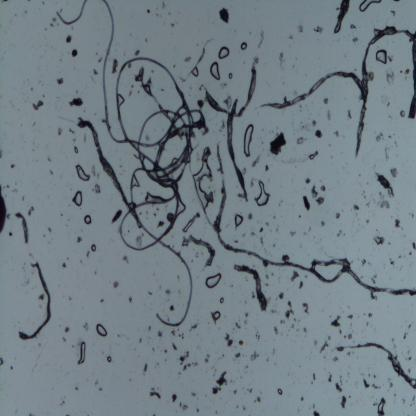Air bubble: (193, 144, 214, 209), (254, 180, 272, 208), (182, 212, 202, 233), (206, 271, 222, 291), (244, 124, 254, 155), (74, 164, 91, 182), (358, 0, 383, 12), (76, 341, 87, 366), (210, 61, 222, 81), (376, 397, 388, 415), (375, 49, 388, 65), (72, 191, 83, 209), (94, 323, 108, 337), (218, 45, 231, 59), (145, 192, 163, 202), (233, 214, 244, 228), (179, 195, 186, 216), (308, 150, 320, 162), (132, 175, 140, 189), (83, 214, 92, 226), (118, 93, 125, 108), (90, 242, 98, 254), (193, 69, 201, 79), (241, 41, 249, 51), (214, 310, 221, 320), (276, 389, 284, 397), (106, 355, 112, 363), (228, 72, 234, 80), (219, 297, 225, 304), (74, 147, 78, 155)
Background material: (374, 170, 396, 199), (268, 130, 287, 157), (109, 208, 122, 226), (216, 370, 228, 389), (386, 68, 398, 86), (180, 350, 192, 368), (224, 330, 234, 350), (219, 7, 230, 24), (297, 120, 311, 133), (378, 94, 391, 108), (258, 29, 266, 51), (285, 301, 295, 318), (148, 387, 162, 399), (372, 234, 386, 246), (69, 97, 84, 108), (32, 99, 45, 111), (279, 49, 286, 71), (302, 194, 310, 212), (330, 316, 342, 328), (171, 328, 184, 339), (310, 184, 319, 199), (313, 24, 325, 35), (314, 128, 325, 140), (249, 349, 258, 363), (315, 196, 326, 207), (290, 271, 300, 283), (183, 362, 198, 370), (363, 376, 371, 391), (111, 58, 118, 75), (385, 375, 394, 388), (252, 155, 261, 168), (302, 302, 310, 316), (179, 400, 189, 411), (390, 166, 399, 178), (375, 131, 384, 143), (340, 395, 347, 410), (135, 235, 143, 248), (381, 200, 391, 210), (55, 76, 65, 86), (181, 238, 190, 249), (320, 342, 329, 353), (296, 23, 304, 35), (282, 252, 290, 264), (121, 255, 130, 265), (233, 322, 242, 332), (189, 323, 199, 332), (254, 331, 262, 342), (94, 184, 102, 195), (370, 383, 382, 390), (394, 218, 401, 230), (296, 136, 305, 145), (370, 276, 378, 286), (387, 55, 397, 63), (278, 291, 286, 301), (326, 108, 332, 121), (272, 325, 279, 336), (336, 383, 343, 394), (37, 292, 45, 301), (142, 362, 148, 374), (404, 68, 410, 80), (196, 99, 204, 108), (91, 166, 97, 178), (352, 204, 361, 212), (338, 373, 344, 385), (242, 365, 250, 374), (157, 219, 165, 228), (246, 212, 254, 221), (411, 240, 416, 254), (384, 148, 389, 162), (65, 34, 72, 44), (204, 353, 211, 363), (172, 343, 179, 353), (157, 330, 164, 340), (68, 125, 75, 135), (298, 279, 304, 290), (390, 339, 396, 350), (346, 109, 352, 120), (403, 329, 409, 340), (66, 294, 74, 302), (134, 48, 142, 56), (234, 352, 242, 360), (370, 292, 378, 300), (255, 396, 263, 404), (360, 257, 367, 266), (6, 211, 13, 220), (269, 308, 278, 315), (76, 235, 83, 244), (169, 304, 175, 314), (346, 314, 356, 320), (334, 129, 340, 139), (400, 108, 406, 118), (336, 230, 343, 238), (350, 23, 358, 30), (320, 184, 327, 192), (164, 289, 172, 296), (92, 68, 100, 75), (332, 355, 339, 363), (82, 130, 86, 144), (287, 34, 294, 42), (290, 230, 298, 237), (238, 339, 245, 347), (318, 219, 326, 226), (64, 325, 71, 333), (245, 386, 252, 394), (31, 119, 38, 127), (171, 394, 178, 402), (260, 235, 265, 246), (28, 207, 34, 216), (83, 323, 89, 332), (213, 364, 217, 377), (327, 374, 332, 384), (298, 101, 303, 111), (212, 388, 219, 395), (176, 288, 182, 296), (126, 89, 132, 97), (258, 225, 264, 233), (390, 9, 396, 17), (46, 155, 52, 163), (278, 318, 286, 324), (346, 332, 352, 340), (306, 176, 312, 184), (0, 356, 4, 368), (352, 36, 358, 44), (312, 410, 320, 416), (323, 97, 329, 105), (299, 395, 305, 402), (99, 297, 105, 304), (390, 258, 396, 265), (289, 321, 295, 328), (113, 282, 119, 289), (271, 348, 276, 356), (62, 262, 67, 270), (312, 371, 316, 381), (10, 189, 18, 194), (279, 199, 284, 207), (196, 406, 201, 414), (243, 318, 248, 326), (129, 296, 133, 306), (152, 210, 157, 218), (373, 401, 379, 407), (161, 86, 167, 92), (58, 128, 62, 137), (59, 400, 65, 406), (154, 362, 160, 368), (368, 312, 374, 318), (336, 212, 340, 221), (401, 397, 406, 404), (10, 164, 17, 169), (240, 232, 247, 237), (145, 134, 150, 141), (162, 2, 167, 9), (265, 164, 270, 171), (347, 350, 351, 358), (312, 119, 316, 127), (30, 252, 34, 260), (86, 250, 90, 258), (303, 326, 307, 334), (243, 167, 247, 175), (62, 336, 66, 344), (338, 327, 342, 335), (364, 219, 372, 223), (408, 366, 412, 374), (314, 340, 318, 348), (27, 411, 33, 416), (244, 312, 249, 318), (46, 228, 52, 233), (8, 232, 13, 238), (346, 302, 351, 308), (386, 241, 392, 246), (94, 379, 99, 385), (127, 63, 132, 69), (0, 151, 3, 161), (264, 282, 270, 287), (301, 230, 306, 236), (184, 56, 190, 61), (171, 22, 176, 28), (393, 141, 398, 147), (147, 290, 153, 295), (229, 283, 235, 288), (21, 194, 25, 201), (177, 275, 181, 282), (387, 114, 394, 118), (234, 239, 239, 244), (230, 379, 235, 384), (156, 207, 161, 212), (265, 274, 270, 279), (408, 355, 413, 360), (296, 327, 301, 332), (191, 392, 196, 397), (394, 394, 398, 400), (274, 242, 278, 248), (271, 271, 275, 277), (252, 232, 256, 238), (66, 256, 70, 262), (355, 380, 359, 386), (326, 336, 332, 340), (38, 342, 42, 348), (366, 201, 370, 207), (233, 390, 237, 396), (152, 347, 156, 353), (251, 292, 254, 300), (308, 226, 312, 232), (138, 338, 142, 344), (343, 334, 347, 340), (312, 402, 315, 409), (412, 395, 415, 402), (310, 380, 314, 385), (387, 135, 392, 139), (98, 387, 102, 392), (52, 18, 56, 23), (177, 371, 181, 376), (97, 58, 102, 62), (59, 8, 63, 13), (6, 184, 10, 189), (408, 251, 413, 255), (275, 228, 279, 233), (49, 170, 53, 175), (214, 409, 218, 414), (194, 253, 198, 258), (147, 326, 151, 331), (245, 277, 249, 282), (367, 262, 372, 266), (51, 23, 55, 28), (294, 316, 297, 322), (235, 403, 238, 409), (400, 68, 403, 74), (147, 8, 150, 14), (30, 86, 33, 92), (42, 0, 45, 6), (253, 399, 257, 403), (272, 215, 276, 219), (265, 222, 269, 226), (42, 234, 46, 238), (9, 366, 13, 370), (328, 143, 332, 147), (76, 387, 80, 391), (128, 378, 132, 382), (322, 355, 326, 359), (60, 212, 63, 217), (367, 373, 370, 378), (190, 259, 193, 264), (304, 274, 307, 279), (27, 0, 32, 3), (146, 210, 149, 215), (243, 407, 246, 412), (164, 348, 167, 353), (408, 324, 411, 329), (74, 138, 76, 145), (95, 271, 98, 275), (222, 353, 225, 357), (96, 52, 99, 56), (139, 212, 142, 216), (363, 196, 367, 199), (244, 300, 247, 304), (72, 344, 75, 348), (366, 181, 369, 185), (335, 7, 339, 10), (375, 228, 378, 232), (412, 213, 414, 219), (398, 255, 401, 259), (299, 214, 301, 220), (127, 229, 130, 233), (394, 0, 400, 2), (373, 375, 376, 379), (44, 28, 47, 32), (366, 322, 368, 327), (132, 84, 134, 89), (145, 38, 147, 43), (81, 230, 84, 233), (409, 403, 412, 406), (354, 69, 357, 72), (266, 359, 269, 362), (362, 190, 365, 193), (299, 364, 301, 368), (156, 13, 158, 17), (57, 22, 59, 26), (118, 334, 120, 338), (66, 414, 70, 416), (348, 394, 350, 398), (348, 372, 350, 376), (359, 174, 361, 177), (43, 94, 45, 97), (168, 13, 171, 15), (70, 188, 72, 191), (66, 224, 68, 227), (240, 376, 243, 378), (364, 313, 366, 315), (407, 414, 409, 416), (409, 212, 410, 215)
Cellulose filter fibre: (212, 143, 416, 298), (352, 26, 410, 159), (73, 118, 132, 214), (259, 69, 362, 109), (335, 343, 416, 390), (223, 96, 250, 204), (18, 260, 52, 342), (205, 68, 257, 117), (232, 265, 270, 313), (181, 36, 213, 80), (188, 236, 217, 270), (407, 32, 416, 122), (332, 0, 351, 37), (310, 254, 352, 269), (14, 210, 30, 244)
Diatom: (167, 210, 174, 223), (70, 49, 79, 58), (367, 71, 374, 82)
Microfibre: (55, 0, 205, 328), (54, 1, 92, 25)
Pen: (0, 187, 8, 236)
